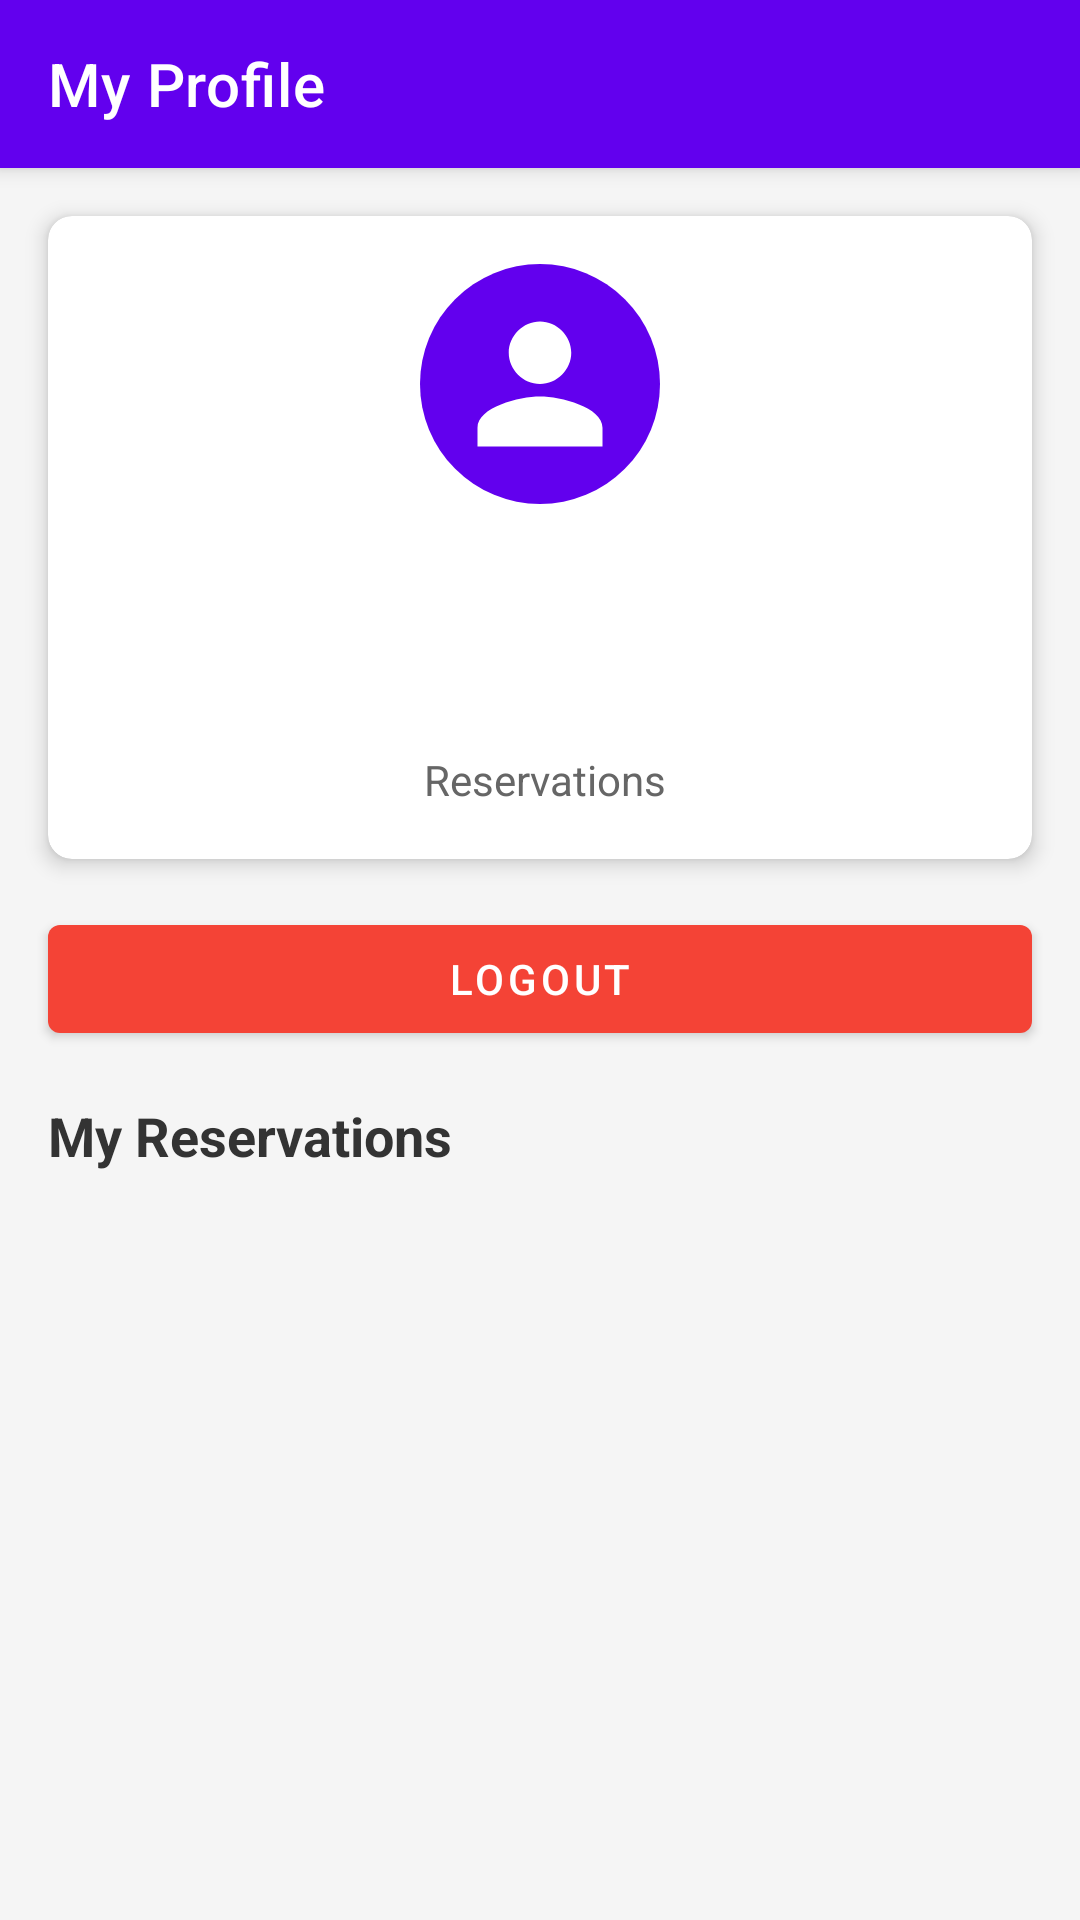

Point at icon controls on the screen. Image size 1080px x 1920px, points as [x,y].
person: [540,384]
